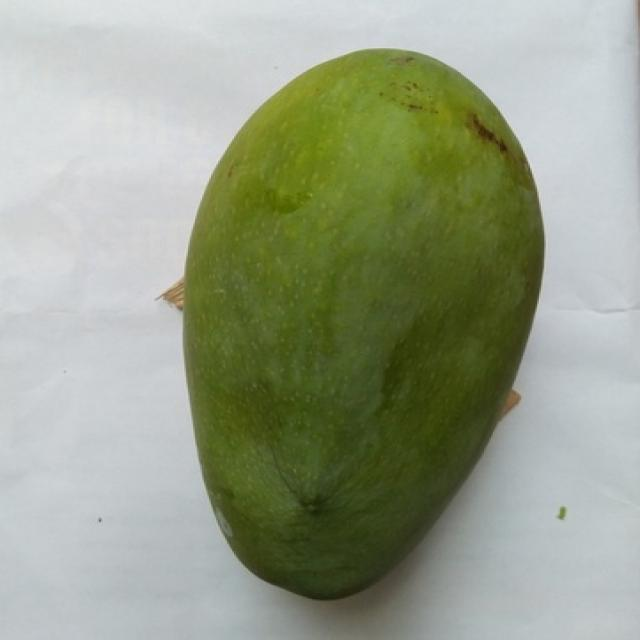Mango: (186, 49, 542, 598)
